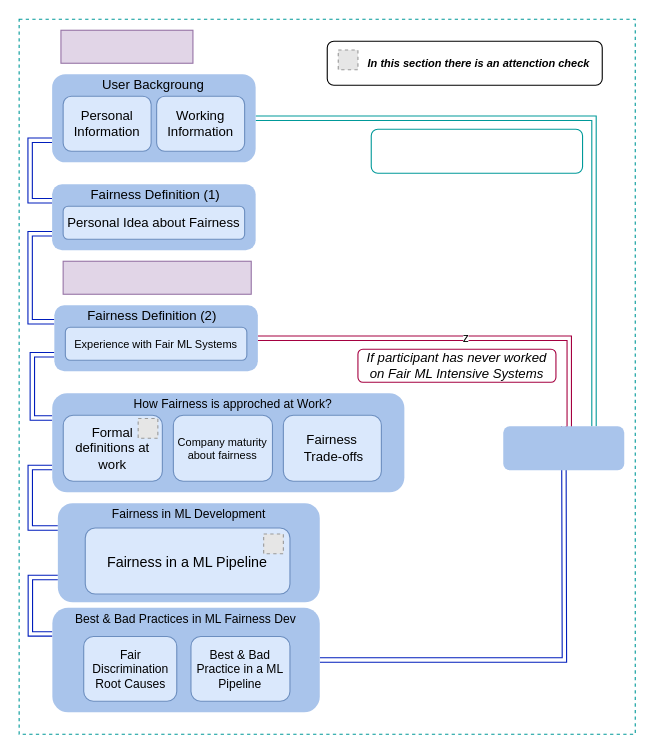
Image size: 656x754. Some labels were removed from this diagram. Grey dashed boxes stand in for pictures. Each missing label, with the centre of its shape:
Contacts & Greething: (563,448)
Generical Fairness Definition: (156,277)
If participant has never worked on ML Intensive Systems: (476,150)
Survey Introduction: (126,46)
